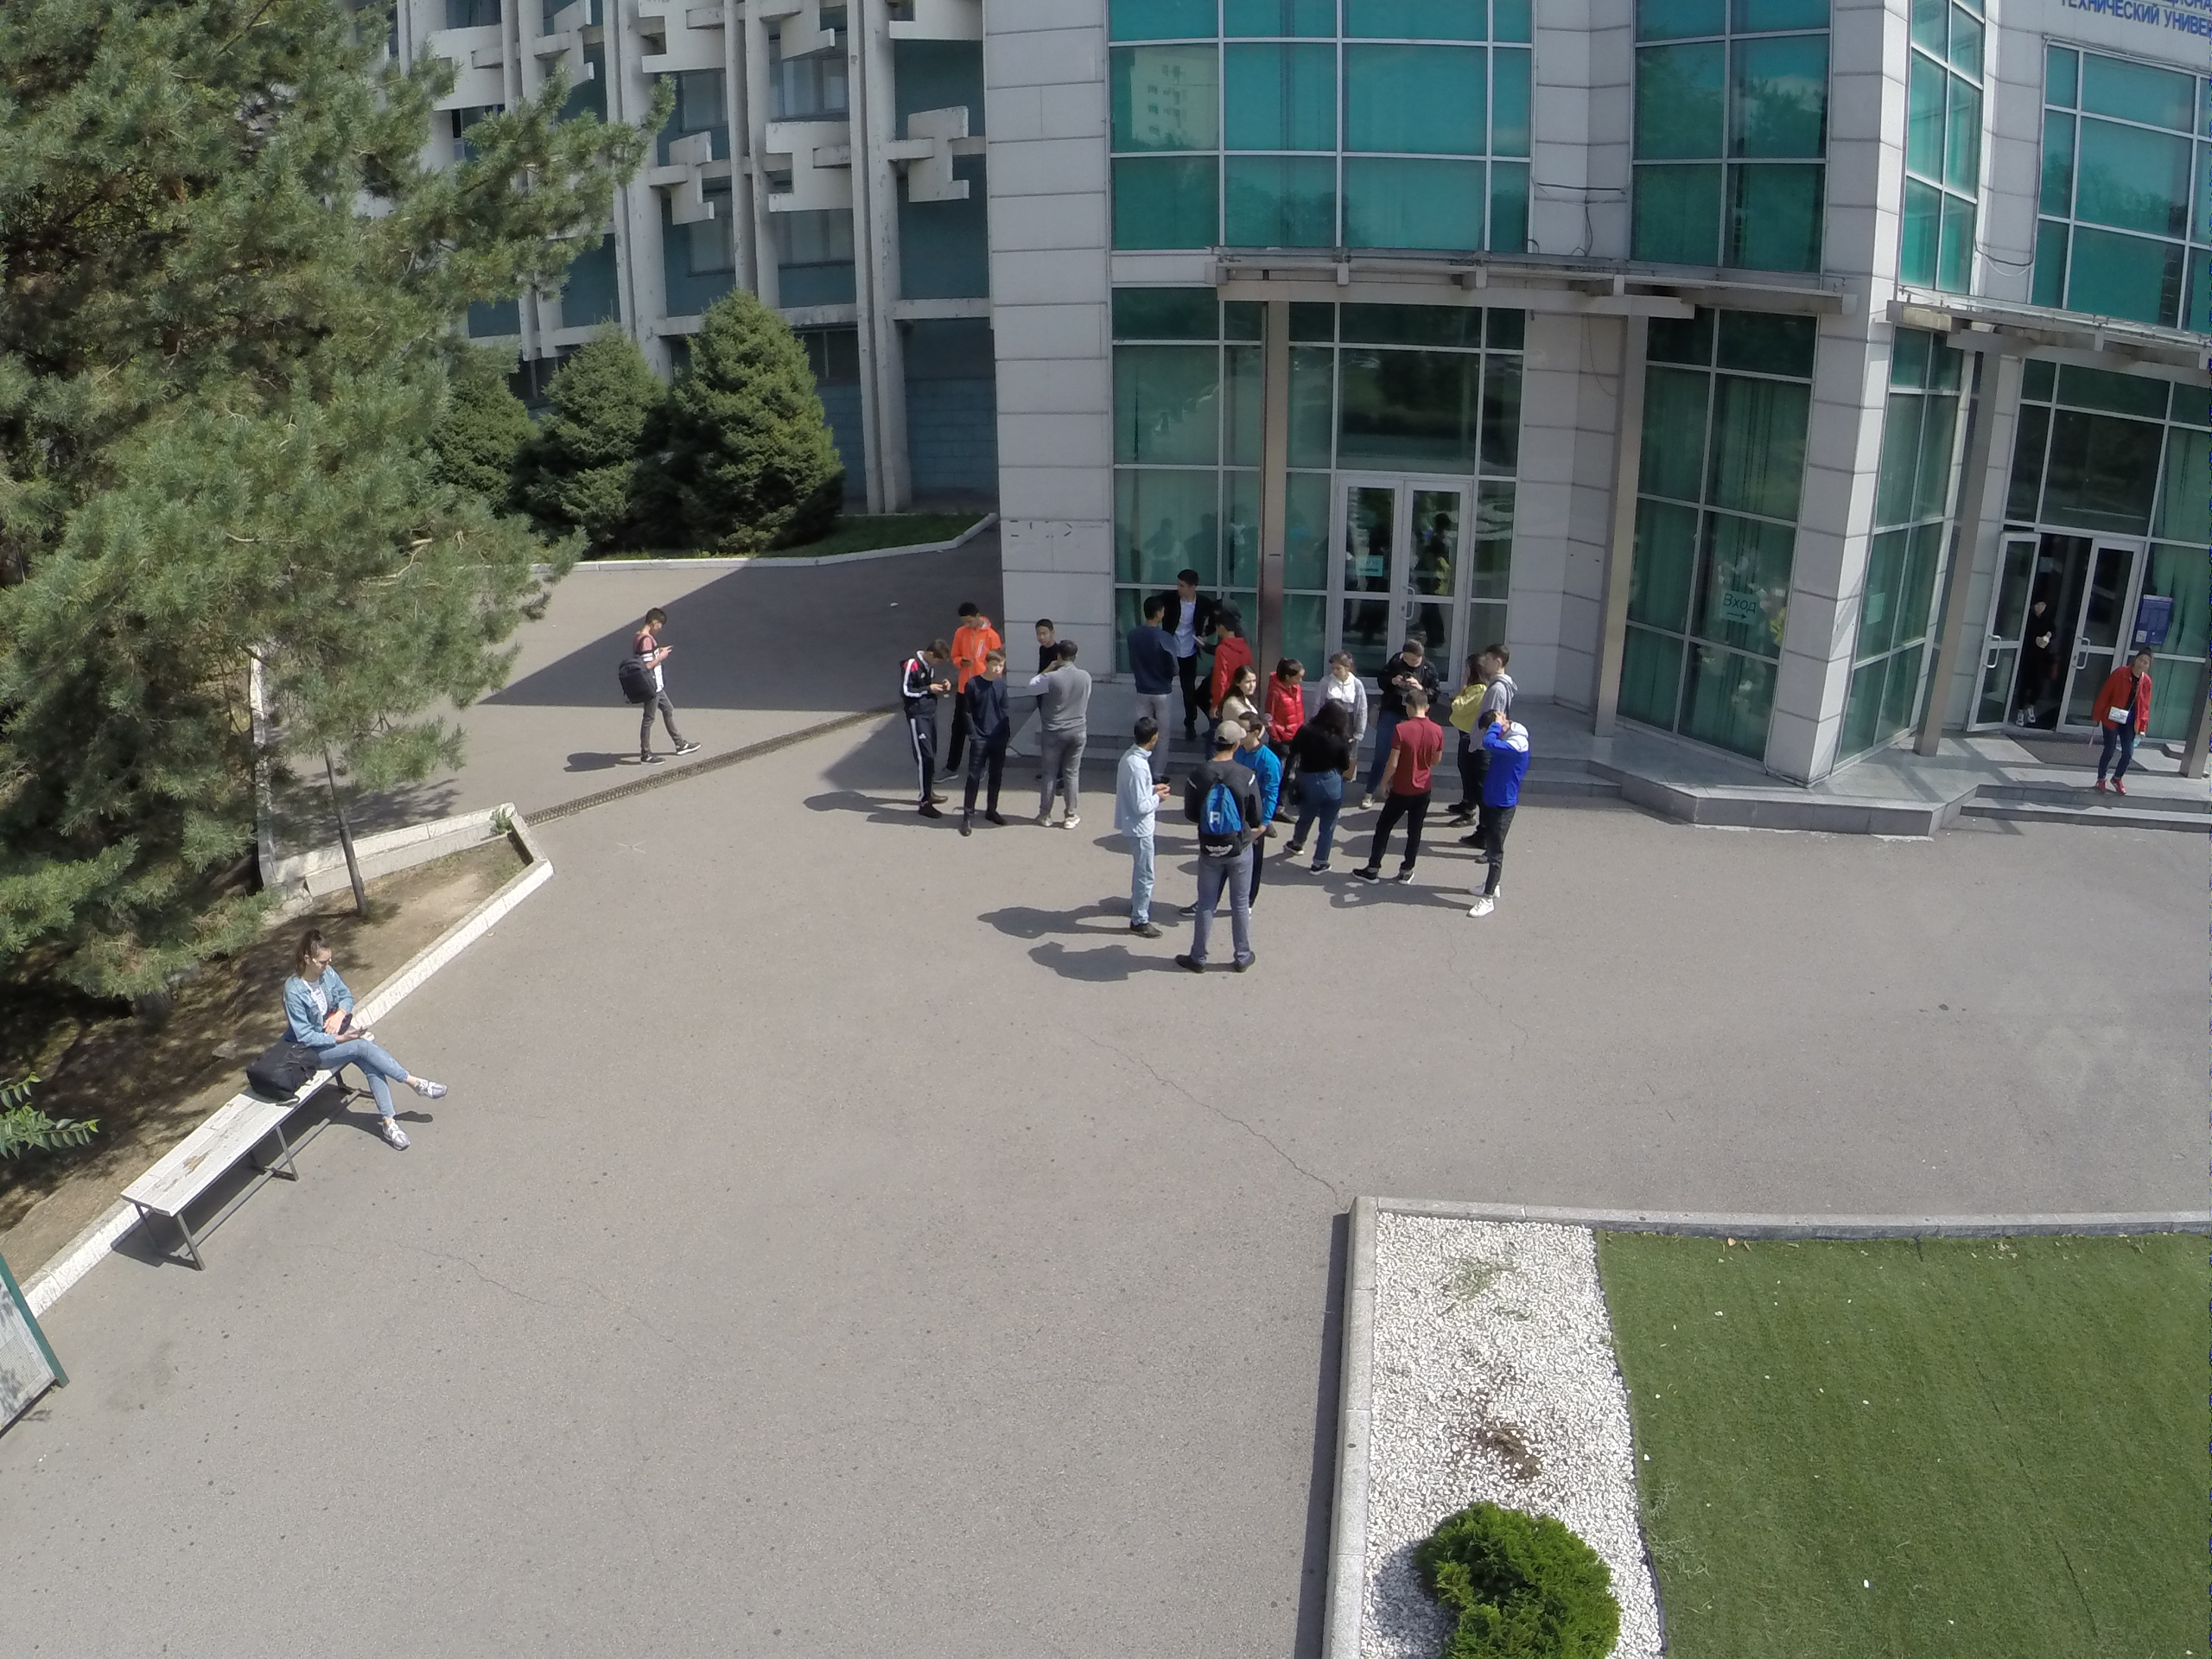person: (276, 926, 447, 1148), (1455, 702, 1534, 930), (1188, 726, 1253, 986), (1116, 712, 1173, 947), (1377, 690, 1442, 897), (624, 604, 701, 770), (1287, 696, 1356, 880), (1035, 643, 1092, 837), (2095, 643, 2156, 791), (965, 649, 1010, 842), (903, 637, 946, 817), (1128, 601, 1179, 721), (950, 602, 986, 757), (1168, 570, 1207, 700), (1267, 661, 1306, 741), (1476, 650, 1515, 723), (1211, 620, 1236, 710), (1395, 638, 1431, 696), (1322, 655, 1358, 702), (1231, 657, 1261, 714)
